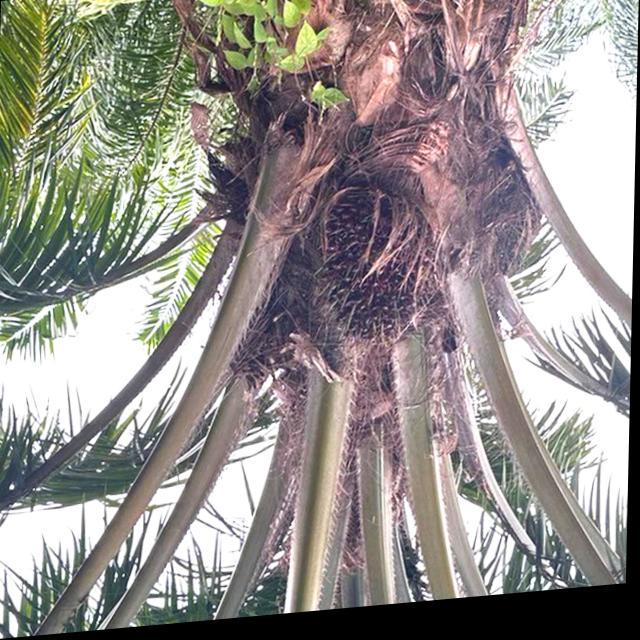ripe: (299, 179, 438, 370)
